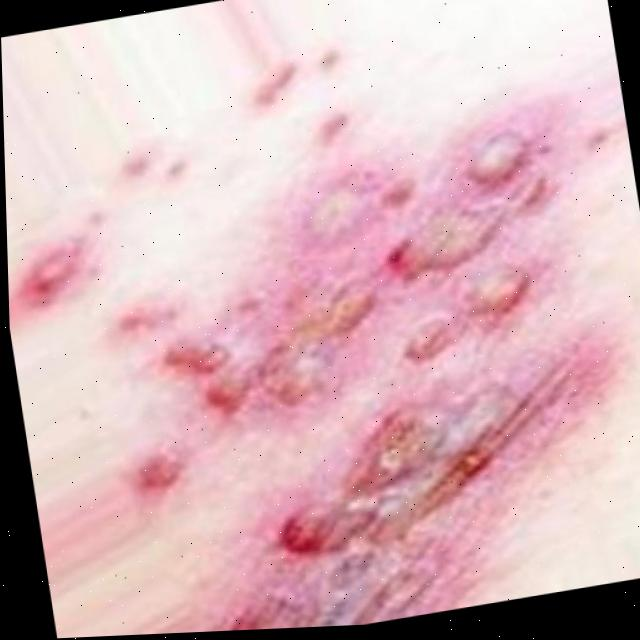Shingles: (79, 118, 626, 612)
